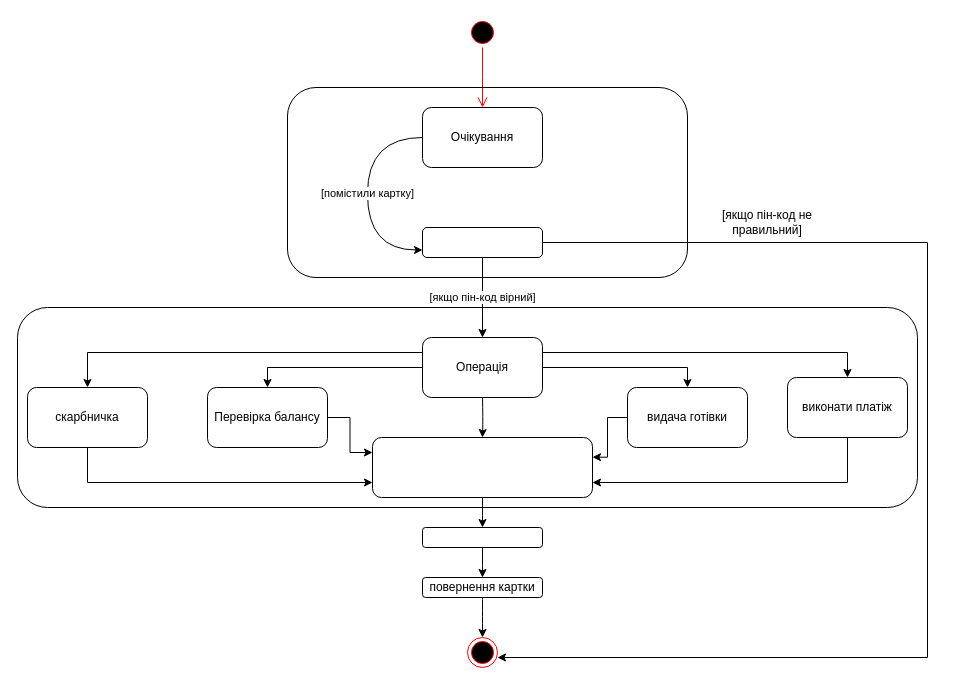
Some shapes in this 953 by 685 pixel diagram are drawn without their labels. The shapes that lost their labels are listed below. From the top down, each one's box as (x1, y1, x2, y2) in pixels, then its label:
(422, 226, 542, 258): Отримання пін-коду
(372, 436, 592, 498): Виконання замовлених операцій
(422, 526, 542, 548): Друк чека
